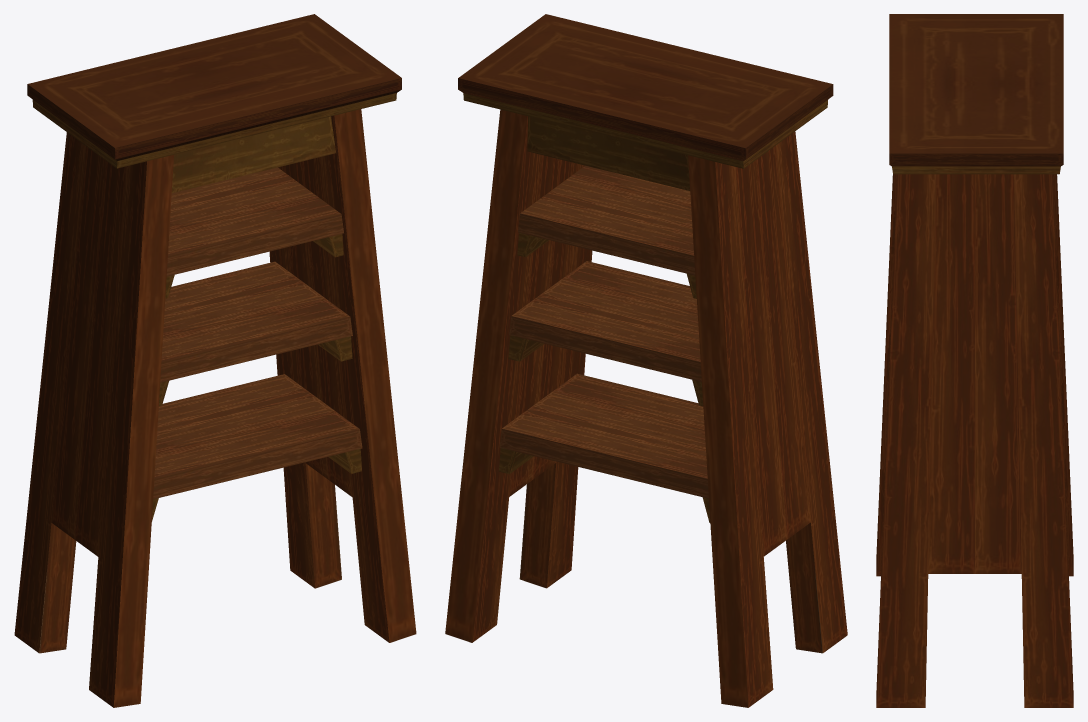
The model's file is prop_nightstand_shelf.glb.
The picture shows the model from 3 angles, left to right: view 1: azimuth 30°, elevation 25°; view 2: azimuth 150°, elevation 25°; view 3: azimuth 270°, elevation 25°; orthographic projection.
Parts seen in each view (by area): view 1: Nightstand_Shelf; view 2: Nightstand_Shelf; view 3: Nightstand_Shelf.
Boxes of the visible parts, bbox=[...] form: Nightstand_Shelf: bbox=[14, 14, 416, 707]; Nightstand_Shelf: bbox=[445, 14, 847, 707]; Nightstand_Shelf: bbox=[876, 14, 1073, 707].
Bounding box in the file's own units: 0.6933 × 1.22 × 0.3935.
Materials: 1 (1 with a texture image).
